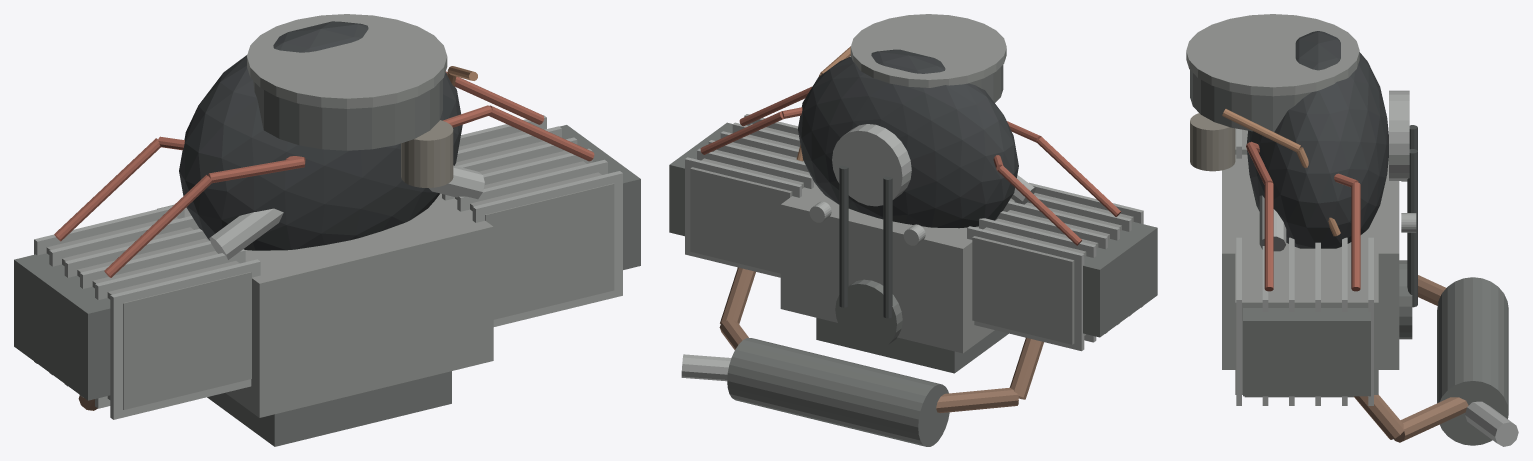
Rendered from PART_012_AirCooledRearEngine.glb.
3 views of the same model, side by side, from view 1: azimuth 30°, elevation 25°; view 2: azimuth 150°, elevation 25°; view 3: azimuth 270°, elevation 25° (orthographic). The views are drawn at different scales.
Visible parts, largest first — view 1: ENGINE_Crankcase, ENGINE_FanShroud, ENGINE_Head_L, ENGINE_Head_R, ENGINE_AirFilterLid, ENGINE_ValveCover_L, ENGINE_AirFilterHousing, ENGINE_Sump, ENGINE_CoolingFin_L_05, ENGINE_CoolingFin_R_05, ENGINE_IntakeManifold, ENGINE_Distributor (+15 smaller); view 2: ENGINE_FanShroud, ENGINE_Crankcase, ENGINE_Muffler, ENGINE_Head_L, ENGINE_Head_R, ENGINE_AirFilterLid, ENGINE_ValveCover_L, ENGINE_FanPulley, ENGINE_CrankPulley, ENGINE_Sump, ENGINE_ExhaustHeader_L, ENGINE_CoolingFin_L_00 (+20 smaller); view 3: ENGINE_FanShroud, ENGINE_ValveCover_R, ENGINE_AirFilterLid, ENGINE_Muffler, ENGINE_Crankcase, ENGINE_Head_R, ENGINE_AirFilterHousing, ENGINE_ExhaustHeader_R, ENGINE_Distributor, ENGINE_FanPulley, ENGINE_PlugWire_R_1, ENGINE_BeltRun_R (+12 smaller).
Part boxes in pixels (x1,y1,x2,y2): ENGINE_Crankcase: [157, 193, 493, 417]; ENGINE_FanShroud: [179, 21, 462, 250]; ENGINE_Head_L: [46, 217, 251, 409]; ENGINE_Head_R: [455, 131, 614, 319]; ENGINE_AirFilterLid: [247, 14, 447, 108]; ENGINE_ValveCover_L: [14, 253, 110, 400]; ENGINE_AirFilterHousing: [253, 79, 442, 150]; ENGINE_Sump: [207, 371, 451, 446]; ENGINE_CoolingFin_L_05: [110, 259, 260, 419]; ENGINE_CoolingFin_R_05: [472, 171, 622, 326]; ENGINE_IntakeManifold: [209, 165, 484, 259]; ENGINE_Distributor: [401, 120, 453, 187]; ENGINE_FanShroud: [798, 49, 1018, 228]; ENGINE_Crankcase: [780, 182, 1014, 353]; ENGINE_Muffler: [727, 338, 949, 446]; ENGINE_Head_L: [972, 193, 1133, 344]; ENGINE_Head_R: [690, 123, 810, 273]; ENGINE_AirFilterLid: [850, 14, 1006, 87]; ENGINE_ValveCover_L: [1083, 222, 1157, 337]; ENGINE_FanPulley: [832, 124, 911, 206]; ENGINE_CrankPulley: [835, 279, 902, 349]; ENGINE_Sump: [816, 318, 1008, 373]; ENGINE_ExhaustHeader_L: [936, 337, 1043, 413]; ENGINE_CoolingFin_L_00: [967, 226, 1084, 351]; ENGINE_FanShroud: [1247, 31, 1388, 248]; ENGINE_ValveCover_R: [1243, 308, 1370, 396]; ENGINE_AirFilterLid: [1186, 14, 1359, 96]; ENGINE_Muffler: [1437, 277, 1508, 445]; ENGINE_Crankcase: [1222, 154, 1399, 369]; ENGINE_Head_R: [1235, 248, 1378, 394]; ENGINE_AirFilterHousing: [1190, 70, 1311, 131]; ENGINE_ExhaustHeader_R: [1353, 395, 1468, 442]; ENGINE_Distributor: [1190, 113, 1235, 171]; ENGINE_FanPulley: [1389, 90, 1409, 180]; ENGINE_PlugWire_R_1: [1246, 142, 1273, 291]; ENGINE_BeltRun_R: [1407, 149, 1417, 307].
Bounding box in the file's own units: 1.47 × 1.03 × 0.8813.
